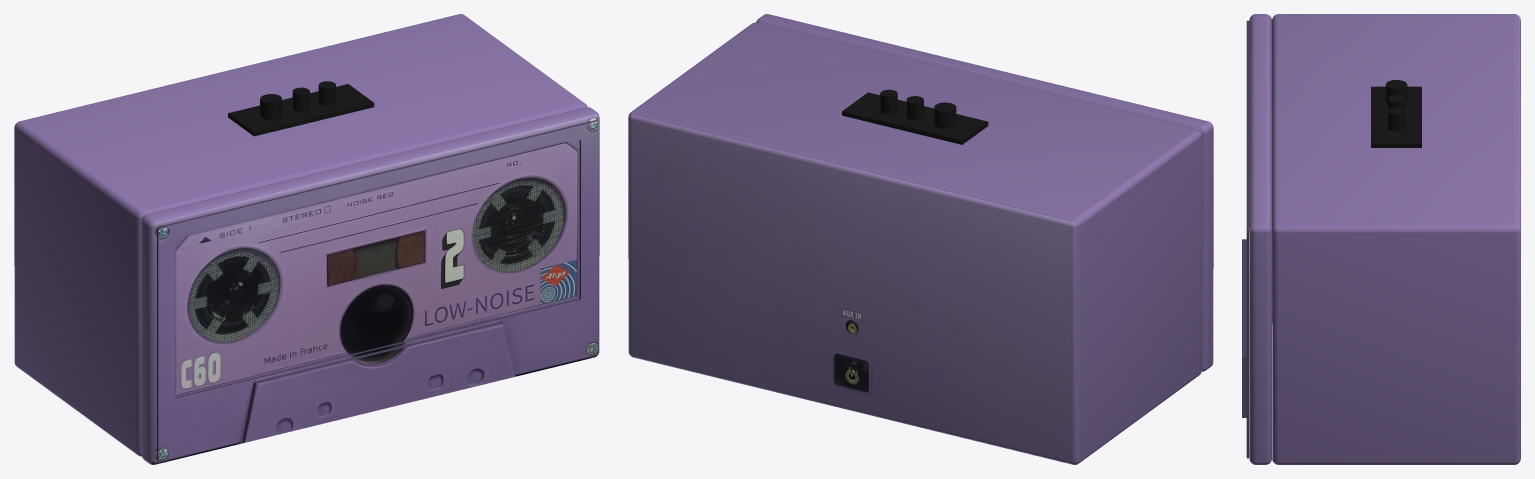
File: violet-lownoise-v5.glb
The picture shows the model from 3 angles, left to right: view 1: azimuth 30°, elevation 25°; view 2: azimuth 150°, elevation 25°; view 3: azimuth 270°, elevation 25°; orthographic projection. The views are drawn at different scales.
Visible parts, largest first — view 1: caisson, facade, facade-relief, details; view 2: caisson, facade, details; view 3: caisson, facade, details, facade-relief.
Part boxes in pixels (x1,y1,x2,y2): caisson: [14, 14, 587, 456]; facade: [141, 107, 599, 464]; facade-relief: [157, 120, 597, 461]; details: [228, 81, 374, 136]; caisson: [628, 22, 1201, 464]; facade: [756, 14, 1213, 371]; details: [842, 89, 988, 144]; caisson: [1272, 14, 1520, 464]; facade: [1249, 14, 1271, 464]; details: [1371, 80, 1421, 147]; facade-relief: [1242, 20, 1249, 458].
Bounding box in the file's own units: 0.45 × 0.2624 × 0.2465.
Materials: 6 (2 with a texture image).
